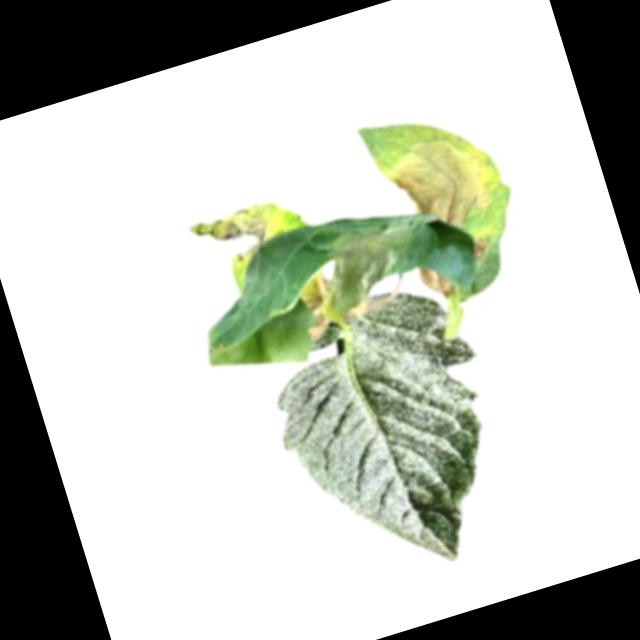Late_blight: (377, 122, 501, 242), (319, 213, 428, 321), (185, 197, 290, 283), (291, 268, 347, 341), (416, 256, 459, 302), (471, 230, 504, 261)
healthy: (252, 275, 533, 601)
